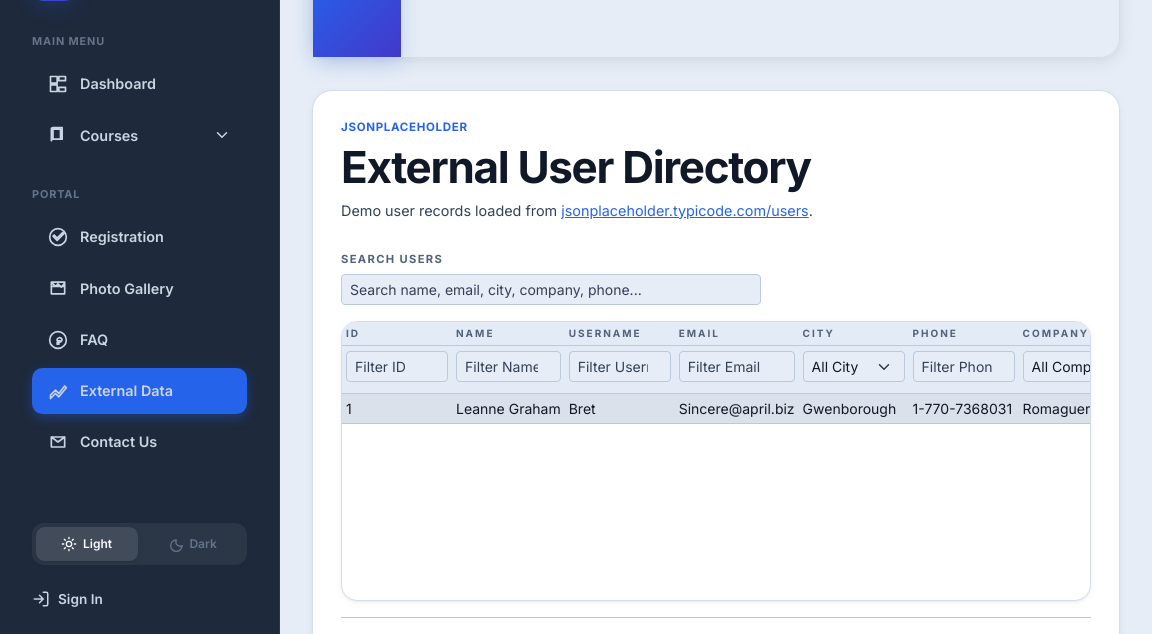
Scenario: filters external users via global search
(page scrolled)
Check: the text "Leanne Graham" is shown, box [456, 398, 561, 419]
Type "zzzznotfound" into the search field labelled "Search users" at (551, 289), box [341, 274, 761, 305]
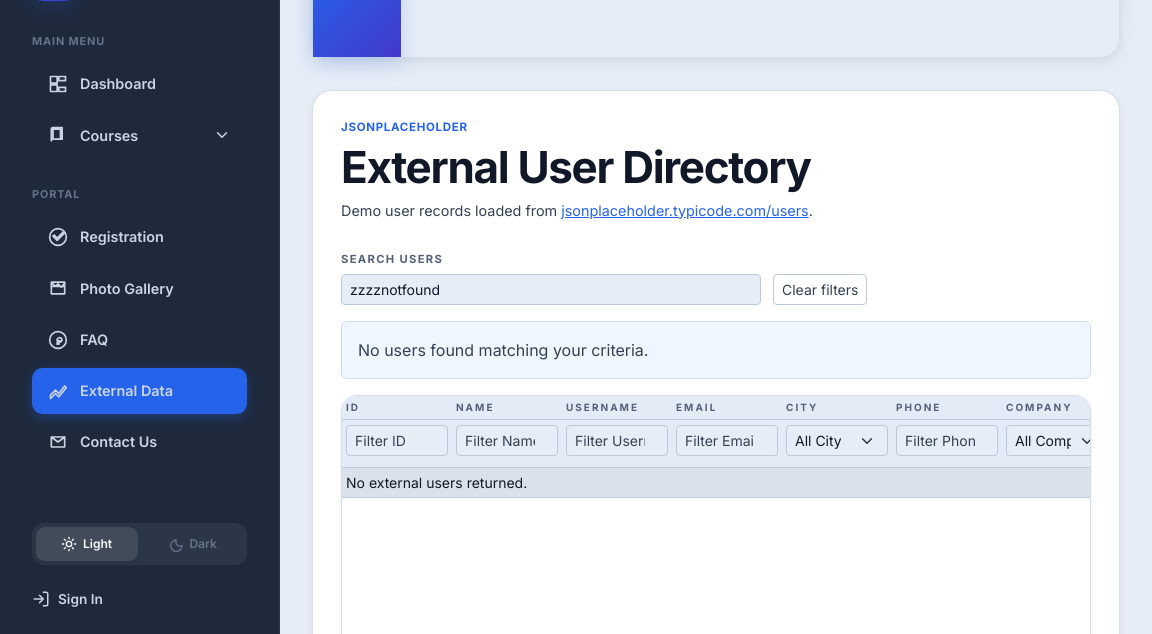
Check: the text "No users found matching your criteria." is shown, box [341, 321, 1091, 379]
